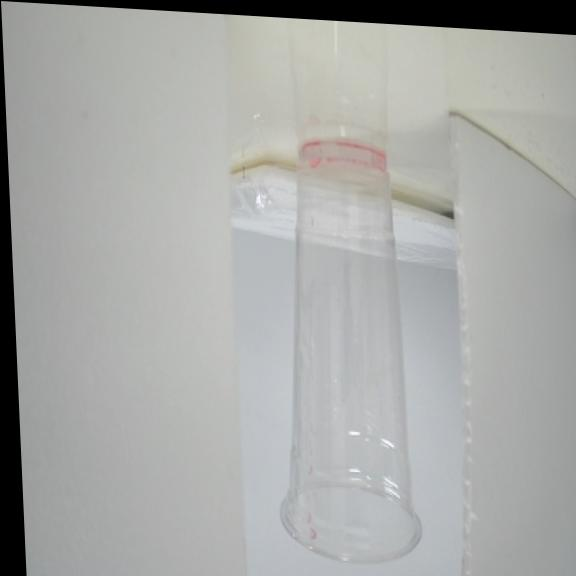Plastik: (280, 141, 419, 561)
